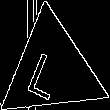L_NE: (29, 39, 74, 99)
